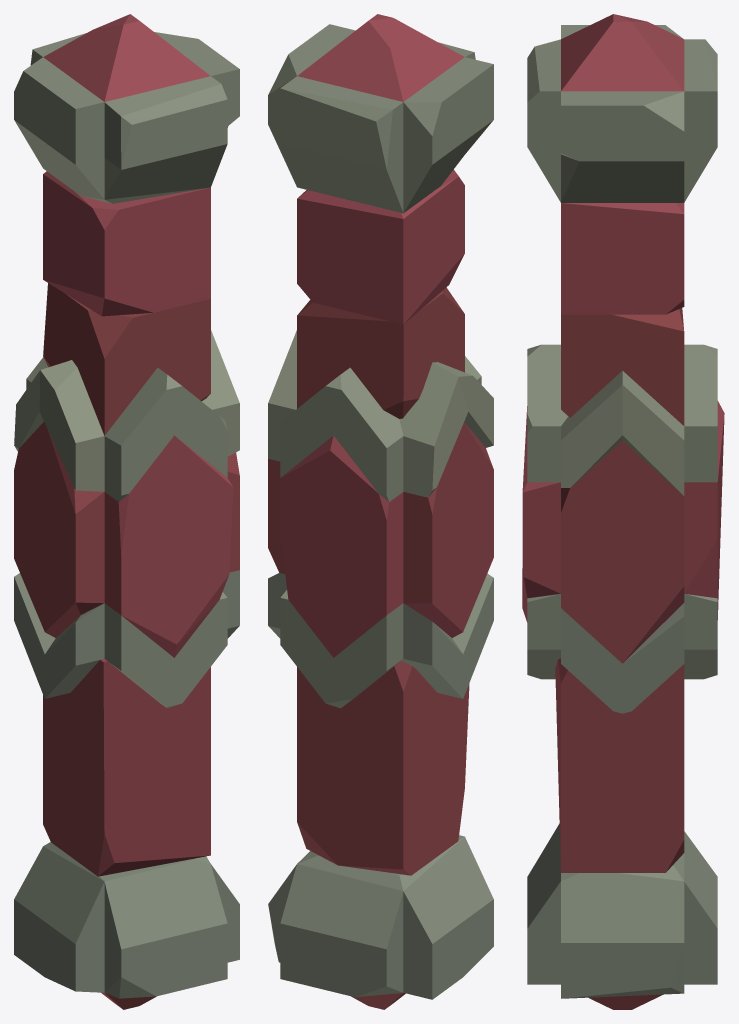
Rendered from pillar_thin_2.fbx.
3 renders of one model, left to right at view 1: azimuth 30°, elevation 25°; view 2: azimuth 150°, elevation 25°; view 3: azimuth 270°, elevation 25°, orthographic.
Parts seen in each view (by area): view 1: pillar_thin_2; view 2: pillar_thin_2; view 3: pillar_thin_2.
Part boxes in pixels (left/top/right/bottom): pillar_thin_2: left=14, top=14, right=239, bottom=1009; pillar_thin_2: left=268, top=14, right=493, bottom=1009; pillar_thin_2: left=522, top=14, right=724, bottom=1009.
Bounding box in the file's own units: 81.62 × 442 × 82.02.
